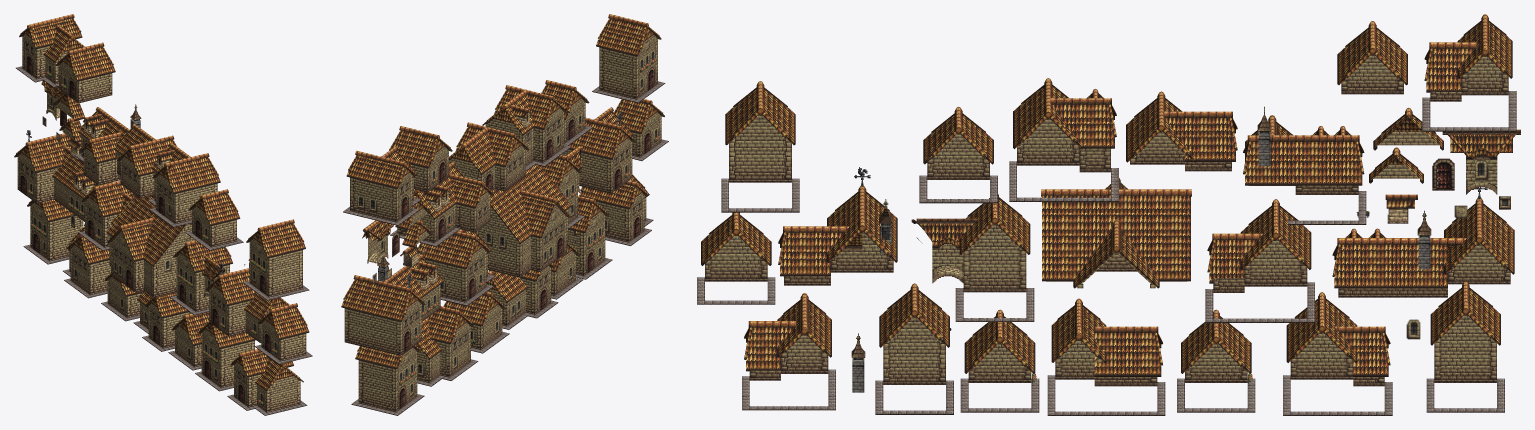
The model's file is MbdMD_T_Sea_L_A_Build_02.FBX.
The picture shows the model from 3 angles, left to right: view 1: azimuth 30°, elevation 25°; view 2: azimuth 150°, elevation 25°; view 3: azimuth 270°, elevation 25°; orthographic projection. The views are drawn at different scales.
Parts seen in each view (by area): view 1: MbdMD_T_Sea_L_A_Inn (×2), MbdMD_Co_T_Sea_S_Pub, MbdMD_T_Sea_L_A_ItemShop (×2), MbdMD_Co_T_Sea_S_House_A, MbdMD_T_Sea_L_A_WeaponShop, MbdMD_T_Sea_L_A_Build_02, MbdMD_T_Sea_L_A_Pub, MbdMD_Co_T_Sea_S_ItemShop, MbdMD_T_Sea_L_A_Build_03, MbdMD_T_Sea_L_A_House_A, MbdMD_Co_T_Sea_S_Alis, MbdMD_T_Sea_L_A_Build_01 (+9 smaller); view 2: MbdMD_Co_T_Sea_S_Pub, MbdMD_T_Sea_L_A_Inn (×2), MbdMD_Co_T_Sea_S_House_A, MbdMD_T_Sea_L_A_WeaponShop, MbdMD_T_Sea_L_A_Build_02, MbdMD_T_Sea_L_A_Build_03, MbdMD_T_Sea_L_A_Pub, MbdMD_Co_T_Sea_S_Alis, MbdMD_T_Sea_L_A_Build_01, MbdMD_Co_T_Sea_S_Inn, MbdMD_Co_T_Sea_S_Build_01, MbdMD_T_Sea_L_A_ItemShop (×2) (+10 smaller); view 3: MbdMD_Co_T_Sea_S_Pub, MbdMD_T_Sea_L_A_Inn (×2), MbdMD_Co_T_Sea_S_House_A, MbdMD_T_Sea_L_A_ItemShop (×2), MbdMD_Co_T_Sea_S_ItemShop, MbdMD_T_Sea_L_A_Build_02, MbdMD_Co_T_Sea_S_Build_02, MbdMD_T_Sea_L_A_Pub, MbdMD_Co_T_Sea_S_Inn, MbdMD_T_Sea_L_A_Build_03, MbdMD_Co_T_Sea_S_Build_01, MbdMD_T_Sea_L_A_Build_01 (+10 smaller).
Part boxes in pixels (bbox=[...]): MbdMD_T_Sea_L_A_Inn (×2): bbox=[16, 14, 307, 415]; MbdMD_Co_T_Sea_S_Pub: bbox=[106, 195, 194, 297]; MbdMD_T_Sea_L_A_ItemShop (×2): bbox=[185, 189, 312, 364]; MbdMD_Co_T_Sea_S_House_A: bbox=[14, 130, 112, 221]; MbdMD_T_Sea_L_A_WeaponShop: bbox=[243, 219, 309, 300]; MbdMD_T_Sea_L_A_Build_02: bbox=[147, 143, 220, 227]; MbdMD_T_Sea_L_A_Pub: bbox=[206, 259, 289, 343]; MbdMD_Co_T_Sea_S_ItemShop: bbox=[170, 240, 245, 315]; MbdMD_T_Sea_L_A_Build_03: bbox=[74, 104, 141, 185]; MbdMD_T_Sea_L_A_House_A: bbox=[56, 42, 115, 103]; MbdMD_Co_T_Sea_S_Alis: bbox=[114, 123, 177, 198]; MbdMD_T_Sea_L_A_Build_01: bbox=[23, 199, 83, 264]; MbdMD_Co_T_Sea_S_Pub: bbox=[458, 164, 571, 277]; MbdMD_T_Sea_L_A_Inn (×2): bbox=[343, 146, 653, 245]; MbdMD_Co_T_Sea_S_House_A: bbox=[341, 254, 443, 355]; MbdMD_T_Sea_L_A_WeaponShop: bbox=[592, 14, 665, 102]; MbdMD_T_Sea_L_A_Build_02: bbox=[482, 85, 571, 171]; MbdMD_T_Sea_L_A_Build_03: bbox=[390, 162, 493, 246]; MbdMD_T_Sea_L_A_Pub: bbox=[561, 107, 635, 193]; MbdMD_Co_T_Sea_S_Alis: bbox=[449, 122, 529, 191]; MbdMD_T_Sea_L_A_Build_01: bbox=[351, 345, 424, 415]; MbdMD_Co_T_Sea_S_Inn: bbox=[418, 229, 495, 305]; MbdMD_Co_T_Sea_S_Build_01: bbox=[415, 306, 478, 386]; MbdMD_T_Sea_L_A_ItemShop (×2): bbox=[541, 80, 668, 160]; MbdMD_Co_T_Sea_S_Pub: bbox=[1041, 178, 1191, 288]; MbdMD_T_Sea_L_A_Inn (×2): bbox=[742, 14, 1516, 410]; MbdMD_Co_T_Sea_S_House_A: bbox=[1332, 187, 1514, 297]; MbdMD_T_Sea_L_A_ItemShop (×2): bbox=[697, 106, 997, 304]; MbdMD_Co_T_Sea_S_ItemShop: bbox=[911, 194, 1034, 321]; MbdMD_T_Sea_L_A_Build_02: bbox=[1009, 78, 1118, 201]; MbdMD_Co_T_Sea_S_Build_02: bbox=[1047, 298, 1165, 415]; MbdMD_T_Sea_L_A_Pub: bbox=[778, 167, 897, 285]; MbdMD_Co_T_Sea_S_Inn: bbox=[1205, 199, 1314, 322]; MbdMD_T_Sea_L_A_Build_03: bbox=[1243, 106, 1366, 224]; MbdMD_Co_T_Sea_S_Build_01: bbox=[1283, 292, 1392, 415]; MbdMD_T_Sea_L_A_Build_01: bbox=[1426, 281, 1504, 412].
Size of the model in its own units: 1063 by 2578 by 5254.
